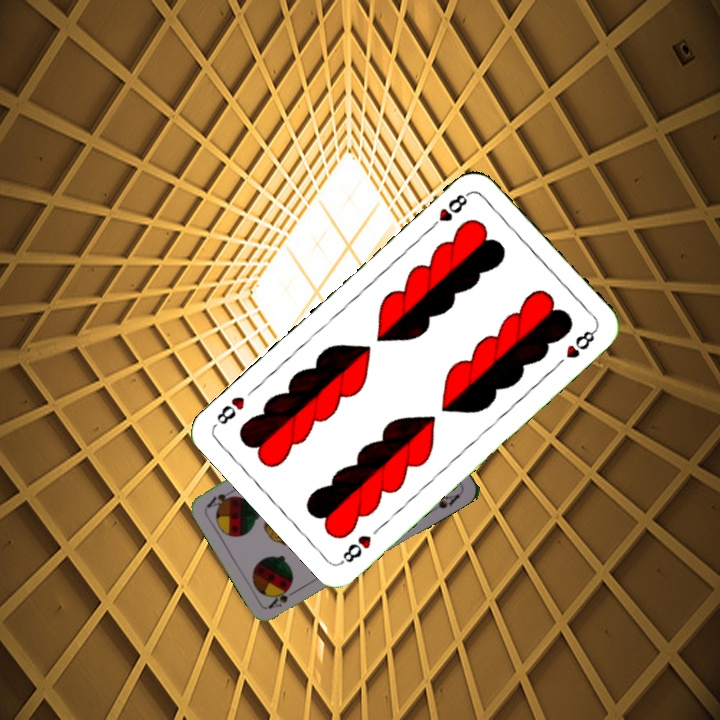H8: (425, 188, 472, 233), (337, 531, 374, 567)
SA: (264, 584, 302, 612)
